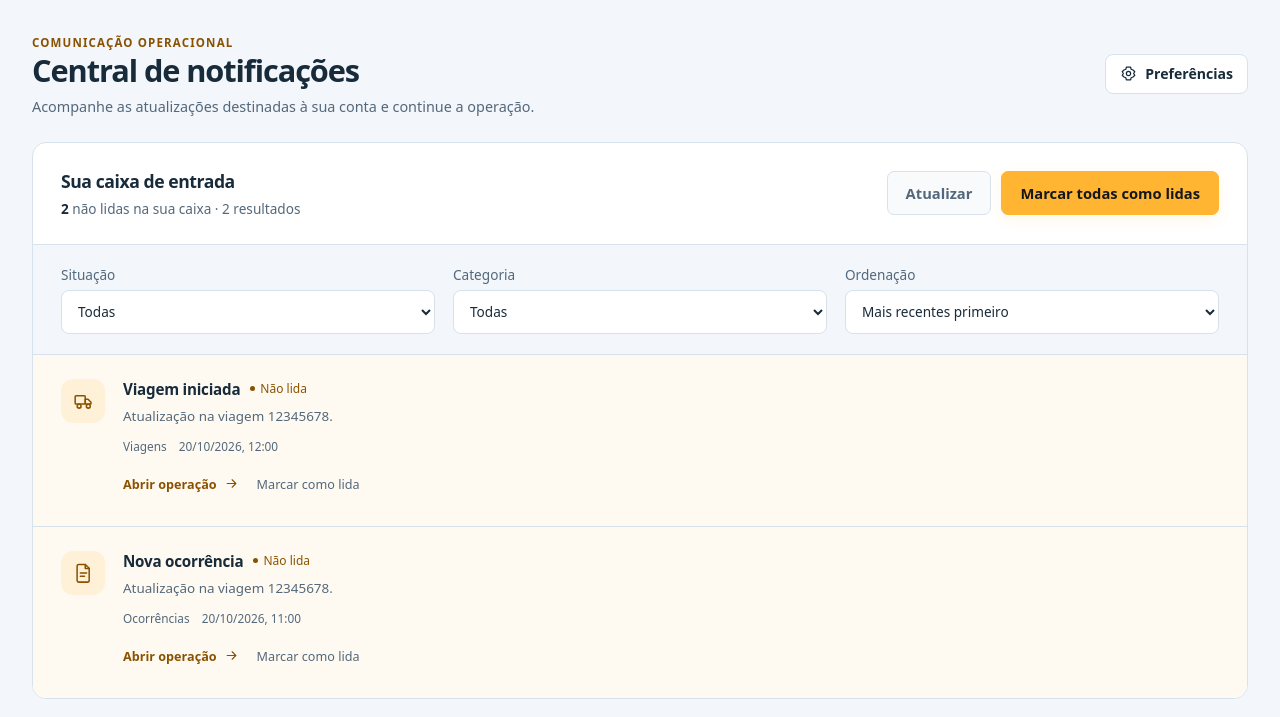
it: marca todas sem modificar outras caixas ou inventar sucesso
The width and height of the screenshot is (1280, 717).
Expected: the heading "Viagem iniciada" is shown, [123,379,240,399]
Click the button "Marcar todas como lidas".
click(1110, 193)  # box [1002,171,1219,215]
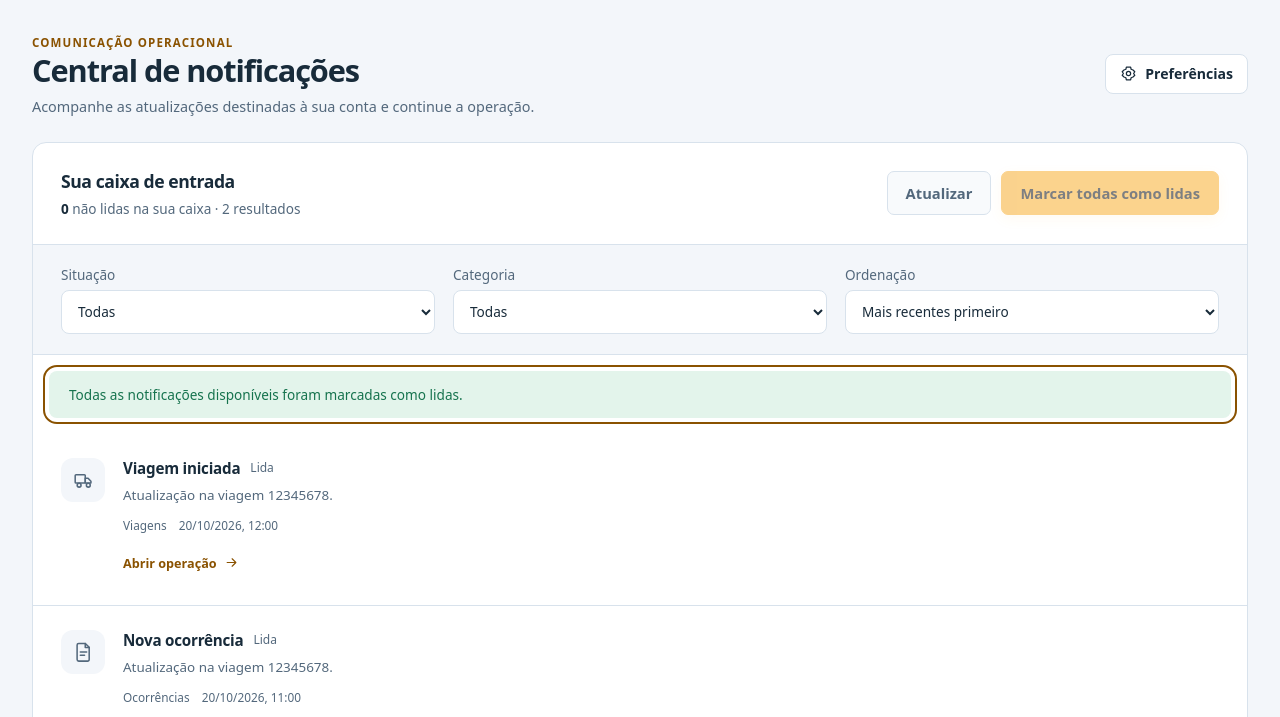
Result: the button "Marcar todas como lidas" is disabled at [1002,171,1219,215]
